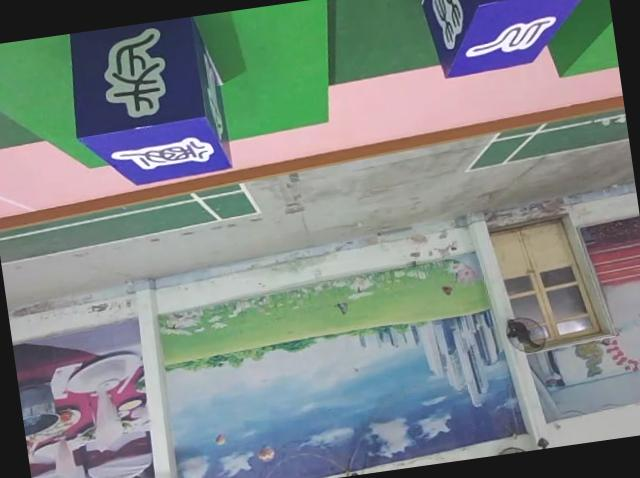R2 Fake Blue: (64, 12, 238, 196), (419, 0, 602, 79)
